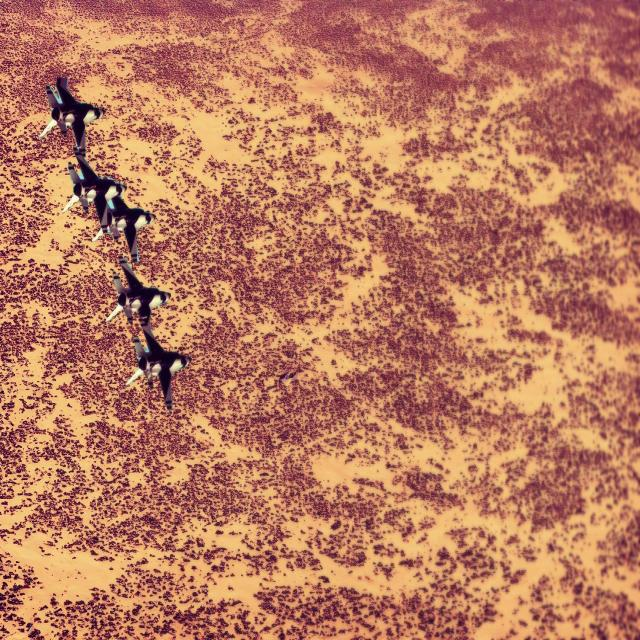airplane: (125, 324, 190, 410), (38, 74, 106, 150), (106, 254, 170, 331), (61, 146, 127, 216), (91, 191, 156, 262)
